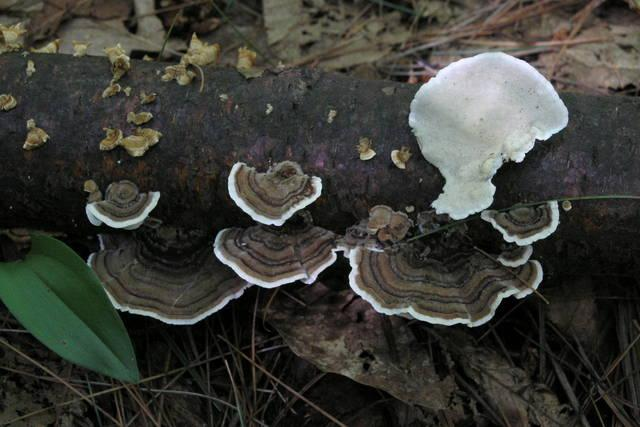Non-edible Mushroom: (48, 211, 579, 364), (407, 49, 569, 220), (226, 158, 323, 226), (84, 178, 161, 231)
